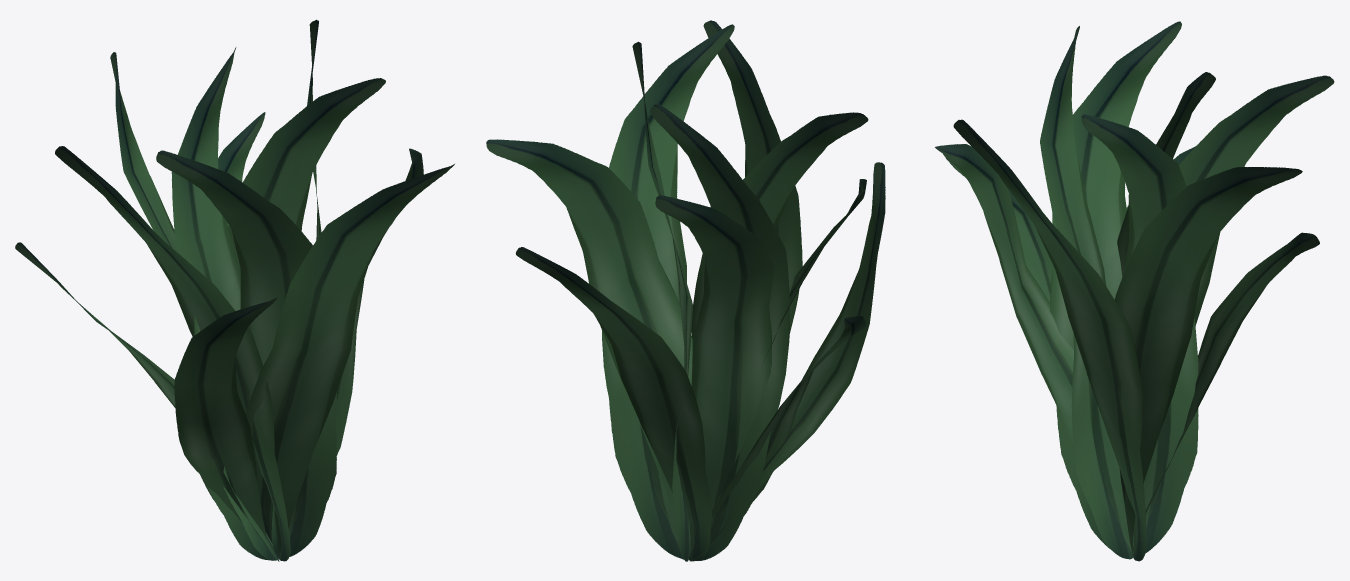
The model's file is plant_04.fbx.
3 views of the same model, side by side, from view 1: azimuth 30°, elevation 25°; view 2: azimuth 150°, elevation 25°; view 3: azimuth 270°, elevation 25° (orthographic).
Parts seen in each view (by area): view 1: pPlane8, pPlane9, pPlane12, pPlane11, pPlane4, pPlane6, pPlane10, pPlane13, pPlane7, pPlane14, pPlane5; view 2: pPlane10, pPlane7, pPlane5, pPlane14, pPlane4, pPlane12, pPlane8, pPlane9, pPlane6, pPlane13, pPlane11; view 3: pPlane5, pPlane7, pPlane9, pPlane6, pPlane11, pPlane8, pPlane10, pPlane14, pPlane4, pPlane12.
Boxes of the visible parts, left/top/right/bottom form: pPlane8: left=245, top=164, right=454, bottom=556; pPlane9: left=156, top=150, right=337, bottom=556; pPlane12: left=174, top=297, right=277, bottom=549; pPlane11: left=55, top=146, right=290, bottom=561; pPlane4: left=171, top=47, right=269, bottom=560; pPlane6: left=228, top=78, right=385, bottom=268; pPlane10: left=110, top=52, right=276, bottom=560; pPlane13: left=15, top=242, right=279, bottom=561; pPlane7: left=335, top=148, right=423, bottom=455; pPlane14: left=218, top=112, right=265, bottom=226; pPlane5: left=271, top=19, right=321, bottom=558; pPlane10: left=655, top=195, right=773, bottom=509; pPlane7: left=602, top=24, right=734, bottom=559; pPlane5: left=486, top=139, right=692, bottom=505; pPlane14: left=515, top=247, right=711, bottom=560; pPlane4: left=650, top=104, right=789, bottom=561; pPlane12: left=689, top=162, right=885, bottom=561; pPlane8: left=703, top=20, right=802, bottom=542; pPlane9: left=691, top=112, right=868, bottom=339; pPlane6: left=632, top=41, right=692, bottom=561; pPlane13: left=712, top=316, right=867, bottom=517; pPlane11: left=763, top=179, right=866, bottom=362; pPlane5: left=1114, top=167, right=1302, bottom=555; pPlane7: left=953, top=119, right=1146, bottom=561; pPlane9: left=1040, top=26, right=1133, bottom=559; pPlane6: left=1081, top=114, right=1198, bottom=552; pPlane11: left=1050, top=21, right=1181, bottom=548; pPlane8: left=935, top=144, right=1133, bottom=557; pPlane10: left=1133, top=75, right=1334, bottom=557; pPlane14: left=1145, top=232, right=1319, bottom=514; pPlane4: left=1117, top=72, right=1215, bottom=276; pPlane12: left=946, top=158, right=1052, bottom=302.
Bounding box in the file's own units: 0.5181 × 0.7239 × 0.5487.
